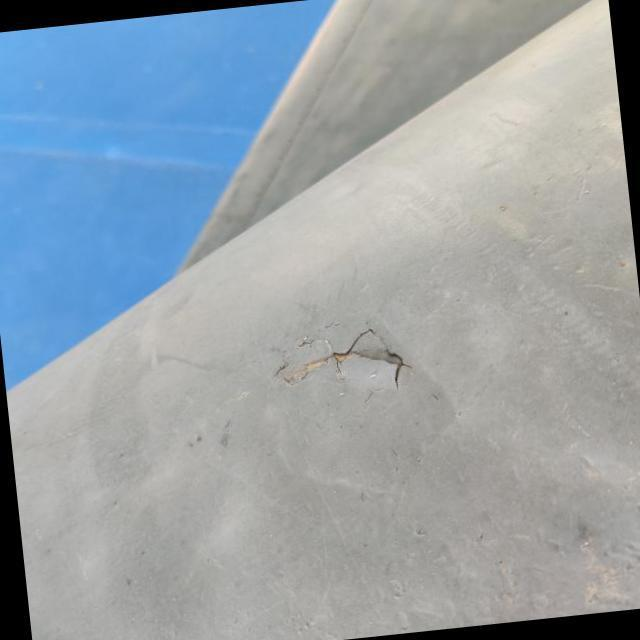Rupture: (270, 310, 424, 421)
